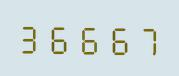seven: (130, 20, 157, 57)
six: (74, 19, 101, 56), (46, 19, 73, 55), (102, 20, 129, 56)
three: (18, 18, 45, 55)
